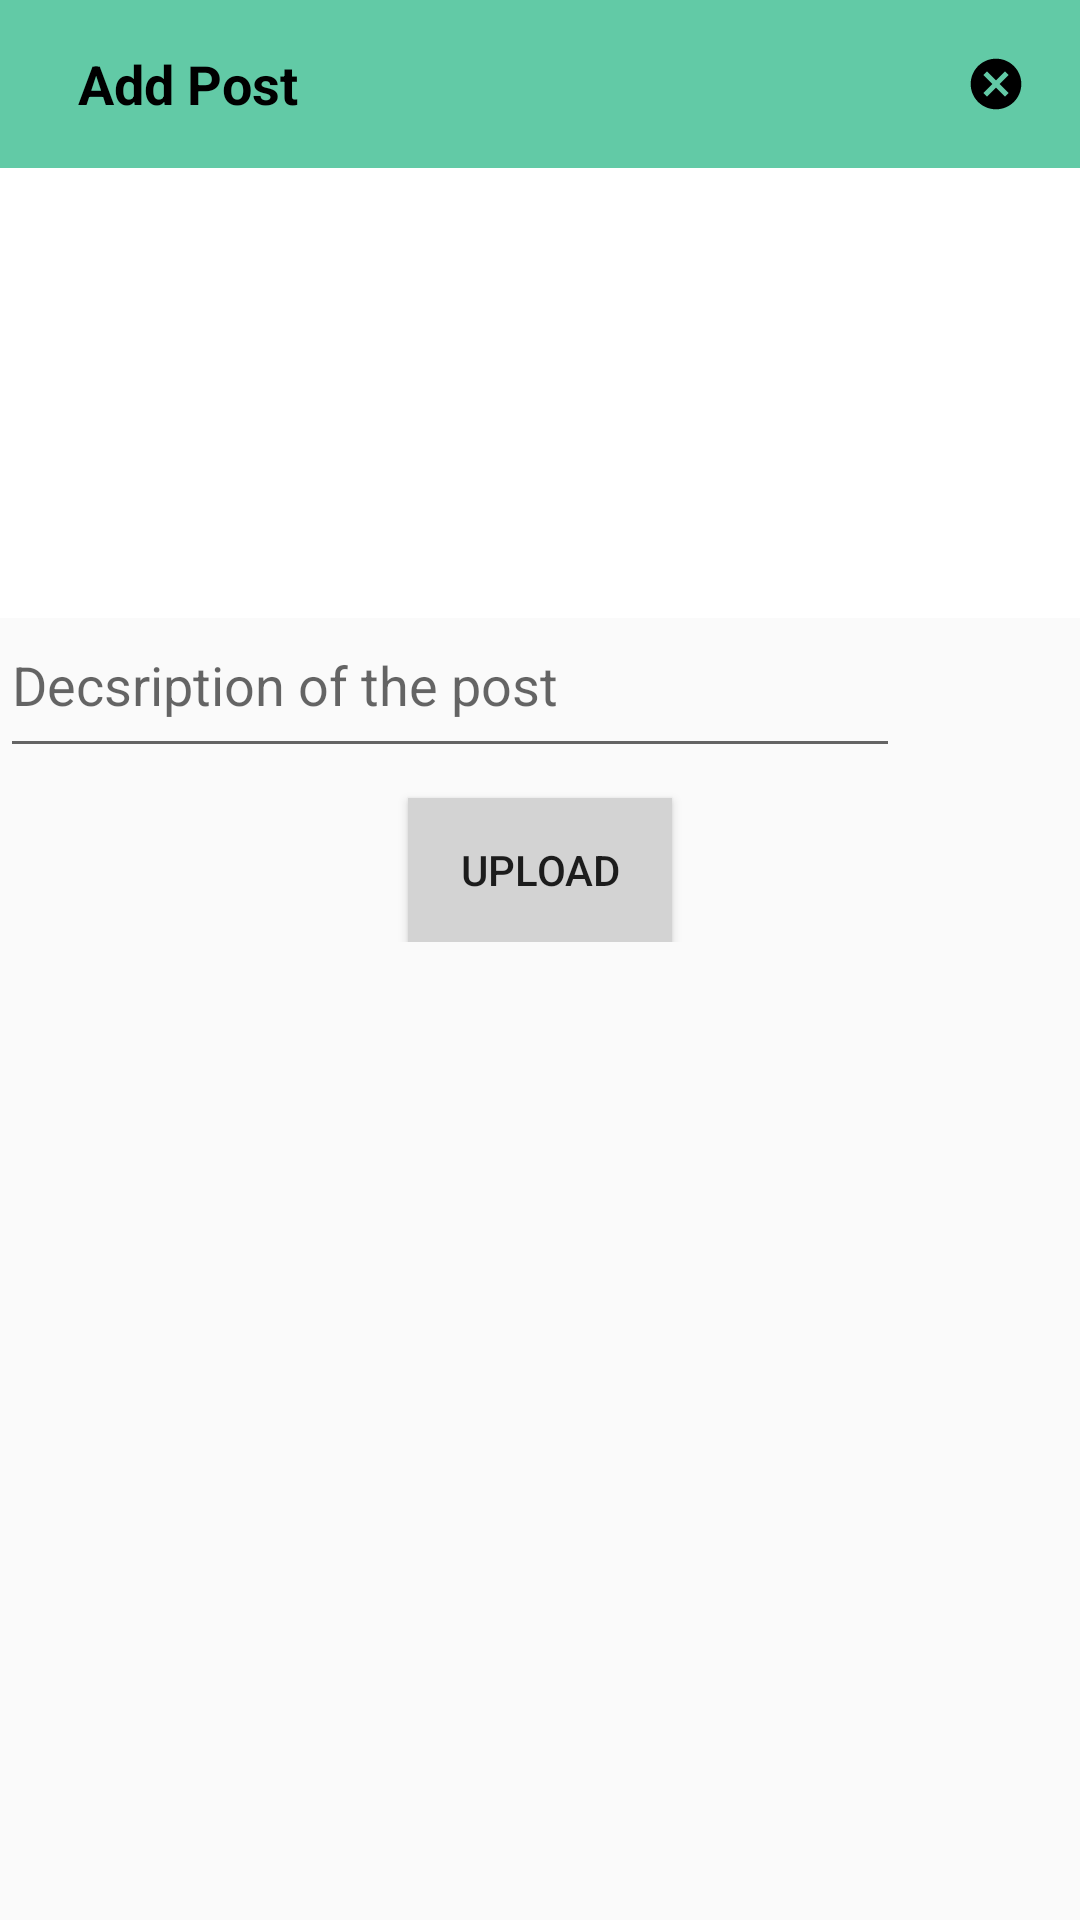

Icons on this 1080 x 1920 Android screen, each with its box as (x1, y1, x2, y2):
cancel: (970, 58, 1022, 110)
